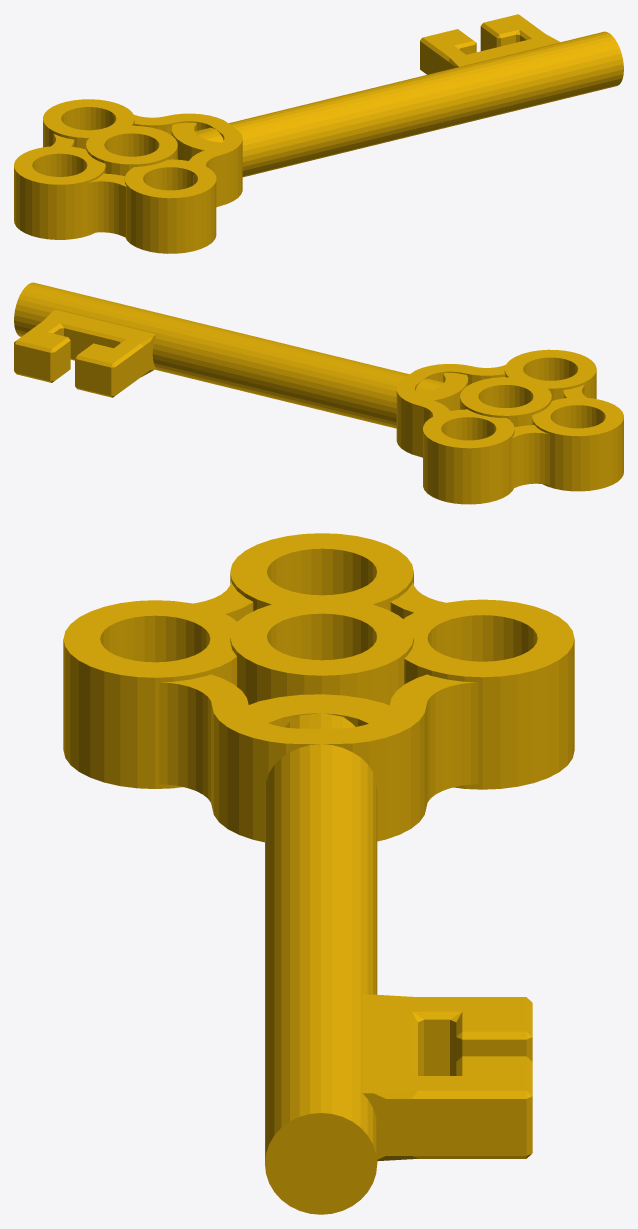
Rendered from keyfragment2.fbx.
The picture shows the model from 3 angles, top to bottom: view 1: azimuth 30°, elevation 25°; view 2: azimuth 150°, elevation 25°; view 3: azimuth 270°, elevation 25°; orthographic projection. The views are drawn at different scales.
Visible parts, largest first — view 1: Cylinder; view 2: Cylinder; view 3: Cylinder.
Part boxes in pixels (box(x1,y1,x2,y2)): Cylinder: box(14, 14, 623, 253); Cylinder: box(14, 282, 623, 504); Cylinder: box(63, 533, 574, 1214).
Bounding box in the file's own units: 242 × 23.56 × 90.95.
